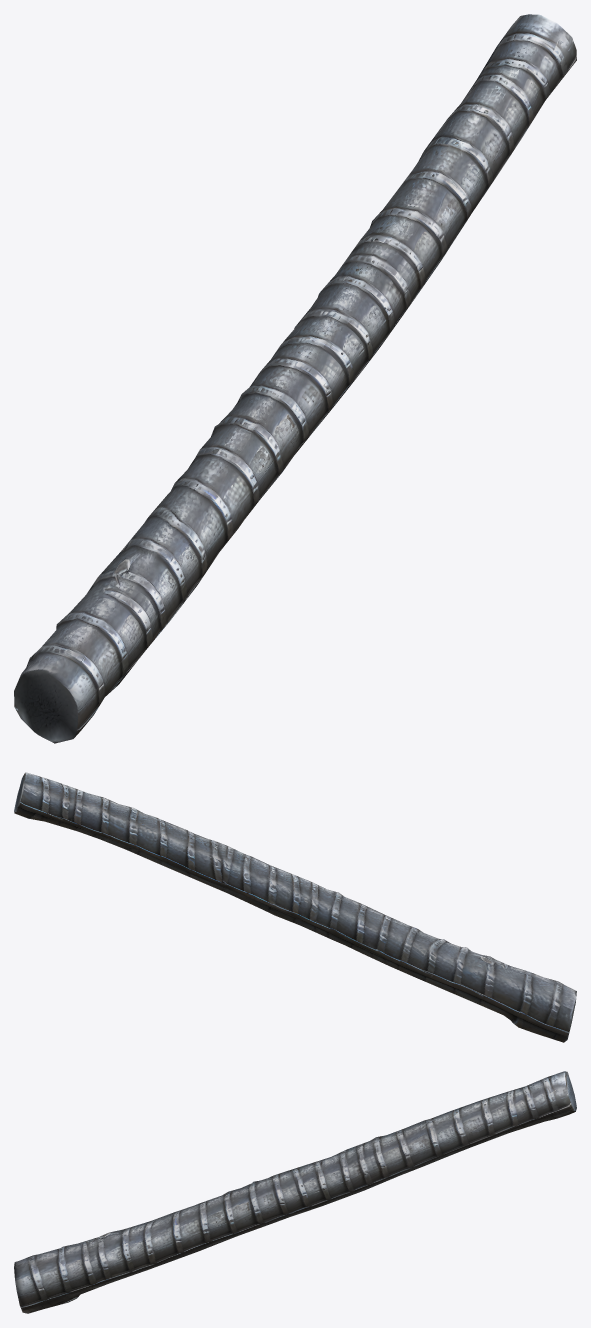
The model's file is scrap_Rebar.fbx.
3 renders of one model, top to bottom at view 1: azimuth 30°, elevation 25°; view 2: azimuth 150°, elevation 25°; view 3: azimuth 330°, elevation 25°, orthographic. The views are drawn at different scales.
Visible parts, largest first — view 1: input; view 2: input; view 3: input.
Boxes of the visible parts, left/top/right/bottom form: input: left=14, top=14, right=576, bottom=743; input: left=14, top=772, right=576, bottom=1042; input: left=14, top=1071, right=576, bottom=1313.
Size of the model in its own units: 99.64 by 53.79 by 55.8.
Materials: 1 (1 with a texture image).
